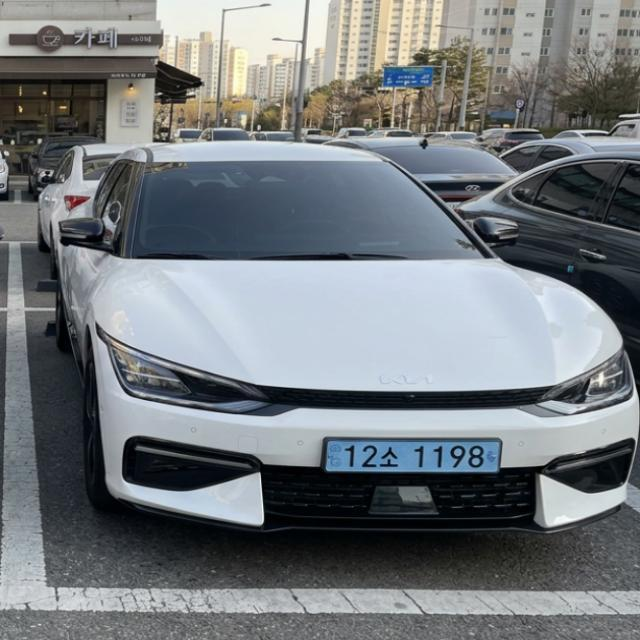car: (309, 433, 521, 484)
carev: (320, 437, 345, 478), (483, 436, 504, 478)
